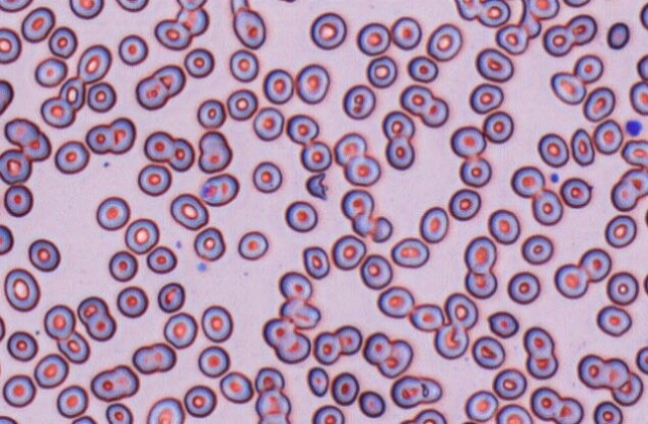PLT: (623, 117, 644, 137), (195, 260, 209, 273), (550, 170, 561, 183)
RBC: (134, 64, 186, 110), (262, 317, 310, 364), (576, 353, 630, 390), (85, 116, 136, 154), (522, 326, 558, 379), (76, 295, 116, 341), (90, 364, 139, 401), (389, 374, 442, 408), (3, 267, 40, 311), (197, 130, 232, 173), (169, 192, 208, 230), (232, 6, 266, 49), (131, 342, 176, 374), (294, 63, 329, 104), (309, 11, 346, 49), (426, 22, 462, 61), (76, 43, 111, 83), (199, 172, 239, 206), (443, 292, 478, 330), (163, 311, 198, 349), (475, 47, 513, 82), (20, 6, 55, 43), (124, 217, 159, 254), (463, 235, 497, 273), (433, 323, 468, 359), (553, 263, 588, 299), (33, 353, 69, 388), (331, 234, 366, 270), (343, 153, 381, 186), (200, 304, 233, 342), (376, 285, 414, 318), (390, 236, 429, 268), (280, 298, 320, 329), (54, 139, 89, 174), (95, 195, 130, 230), (153, 18, 191, 50), (333, 131, 367, 166), (610, 370, 643, 406), (550, 71, 586, 104), (43, 304, 76, 340), (359, 253, 392, 289), (596, 304, 632, 337), (487, 208, 520, 244), (582, 86, 615, 122), (342, 83, 375, 119), (531, 188, 563, 225), (449, 125, 486, 157), (56, 330, 90, 364), (183, 384, 217, 418), (2, 373, 36, 407), (471, 335, 505, 369), (506, 270, 540, 304), (356, 21, 390, 55), (492, 367, 527, 400), (510, 165, 545, 198), (578, 247, 611, 282), (606, 270, 639, 305), (262, 68, 294, 104), (137, 163, 171, 196), (464, 389, 498, 422), (604, 214, 637, 248), (40, 96, 75, 128), (390, 15, 422, 50), (193, 226, 225, 261), (537, 132, 569, 167), (468, 82, 503, 114), (252, 106, 284, 141), (0, 148, 31, 184), (3, 117, 40, 147), (340, 188, 374, 220), (219, 371, 253, 403), (56, 384, 88, 418), (28, 238, 60, 272), (399, 84, 434, 115), (592, 119, 623, 154), (408, 302, 444, 332), (419, 206, 448, 243), (542, 24, 575, 56), (197, 345, 230, 377), (299, 140, 332, 172), (559, 176, 592, 208), (284, 200, 317, 232), (448, 188, 481, 220), (116, 285, 148, 318), (530, 386, 561, 420), (278, 270, 312, 301), (34, 56, 68, 87), (146, 396, 184, 423), (143, 130, 175, 162), (565, 13, 597, 45), (381, 110, 414, 141), (495, 23, 528, 54), (117, 33, 148, 66), (458, 156, 491, 187), (520, 233, 553, 264), (286, 113, 319, 144), (482, 110, 513, 143), (366, 55, 397, 88), (228, 48, 258, 82), (3, 183, 33, 217), (6, 330, 38, 361), (226, 88, 257, 120), (252, 160, 282, 193), (362, 331, 391, 365), (312, 331, 341, 365), (385, 136, 414, 170), (330, 371, 359, 405), (570, 127, 595, 166), (183, 47, 214, 78), (108, 250, 138, 282), (176, 7, 209, 36), (464, 270, 497, 299), (48, 25, 77, 58), (302, 245, 330, 279), (58, 75, 85, 110), (86, 81, 116, 112), (196, 98, 226, 129), (237, 230, 268, 260), (610, 179, 639, 211), (573, 53, 603, 83), (333, 324, 362, 355), (419, 96, 448, 127), (146, 245, 177, 274), (487, 310, 519, 338), (406, 55, 438, 83), (477, 0, 510, 27), (168, 137, 194, 171), (22, 131, 51, 161), (254, 366, 285, 394), (157, 281, 185, 312), (620, 167, 647, 198), (553, 396, 583, 423), (0, 26, 21, 64), (358, 389, 385, 418), (495, 403, 533, 423), (621, 138, 647, 167), (306, 366, 329, 397), (592, 400, 623, 423), (68, 0, 104, 19), (401, 408, 446, 423), (368, 215, 393, 242), (606, 21, 630, 49), (526, 0, 559, 20), (629, 80, 647, 115), (311, 404, 344, 423), (518, 11, 541, 38), (105, 402, 133, 423), (454, 0, 482, 20), (0, 78, 14, 115), (0, 223, 14, 255), (115, 0, 149, 12), (0, 0, 33, 12), (635, 345, 647, 374), (257, 413, 290, 423), (636, 53, 647, 83), (176, 0, 207, 10), (229, 0, 249, 13), (639, 1, 647, 29), (71, 415, 97, 423), (563, 0, 591, 7), (0, 315, 6, 341), (0, 415, 17, 423), (643, 272, 648, 296), (644, 207, 648, 227), (276, 0, 298, 3)
Schistocyte: (305, 170, 329, 202)
